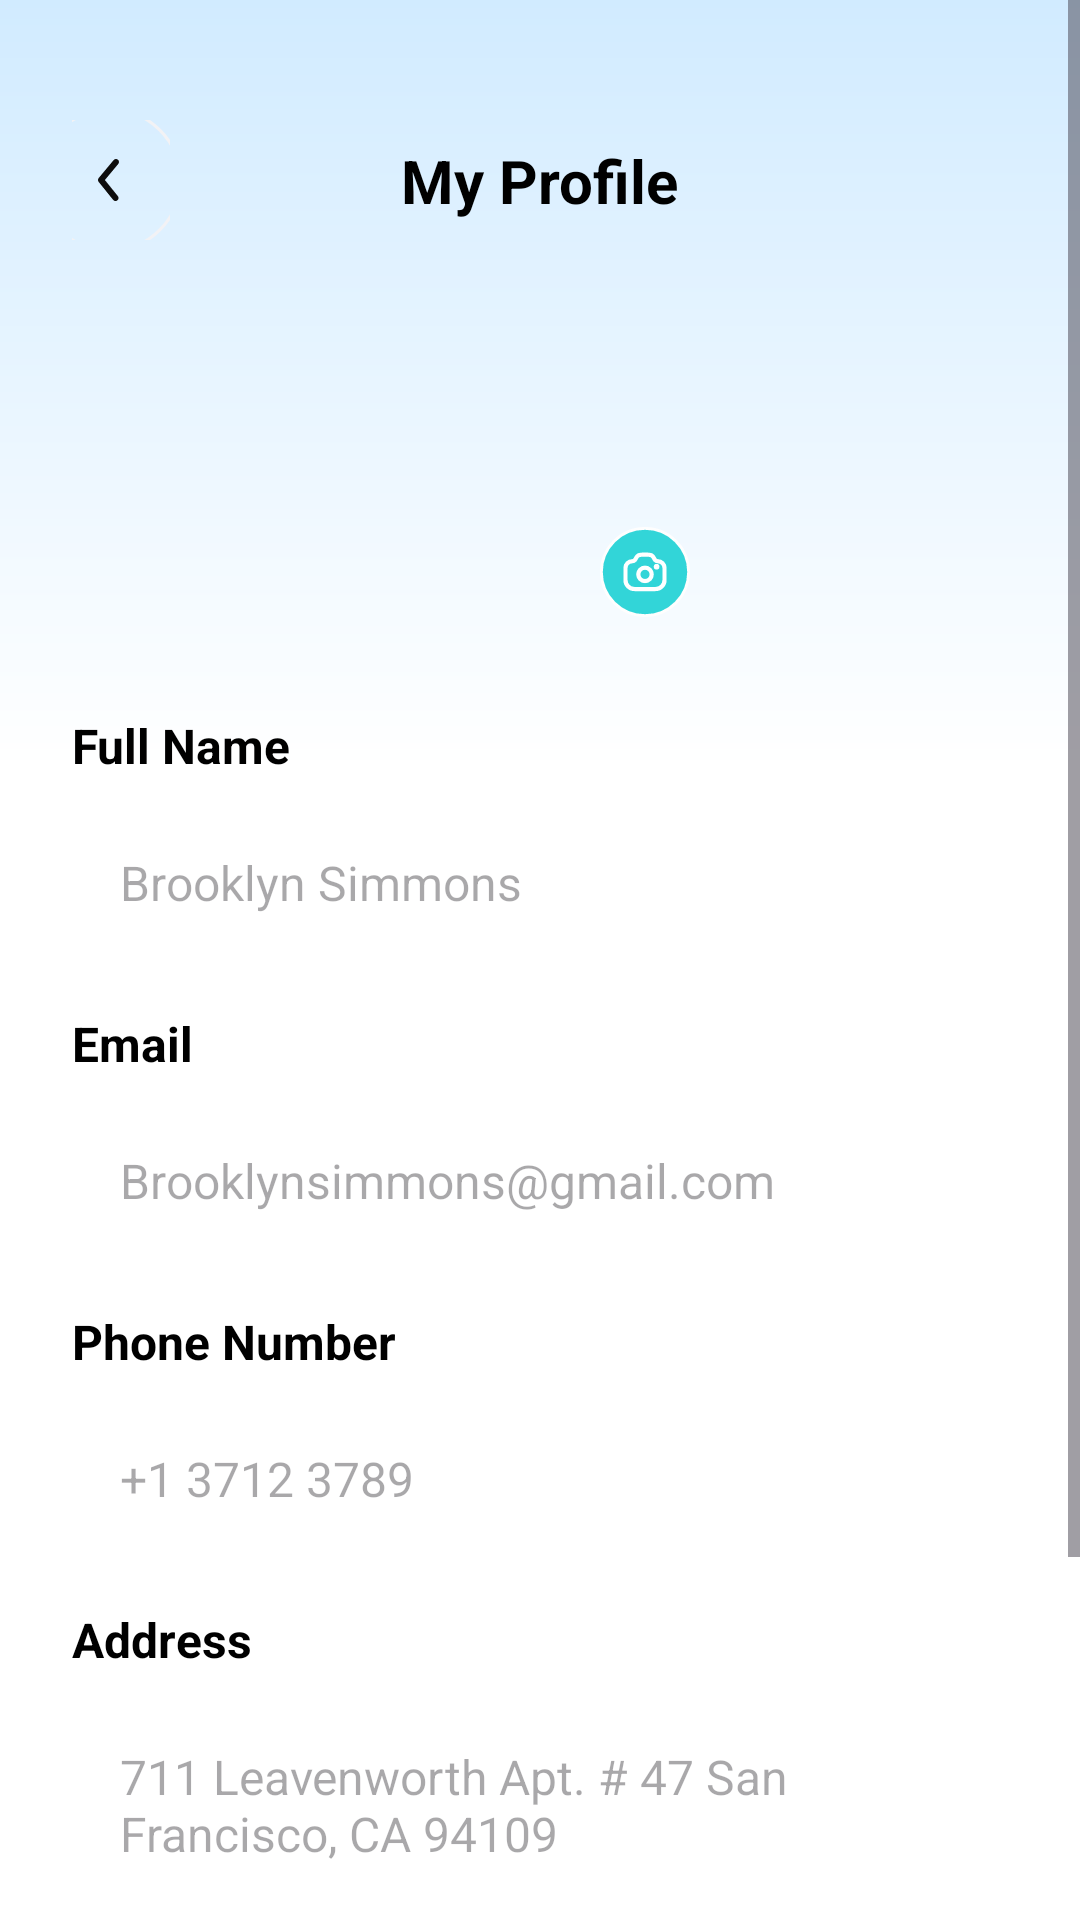

Named icons in this screenshot (1080 x 1920) and their centers, (x,y):
Back: (108,180)
